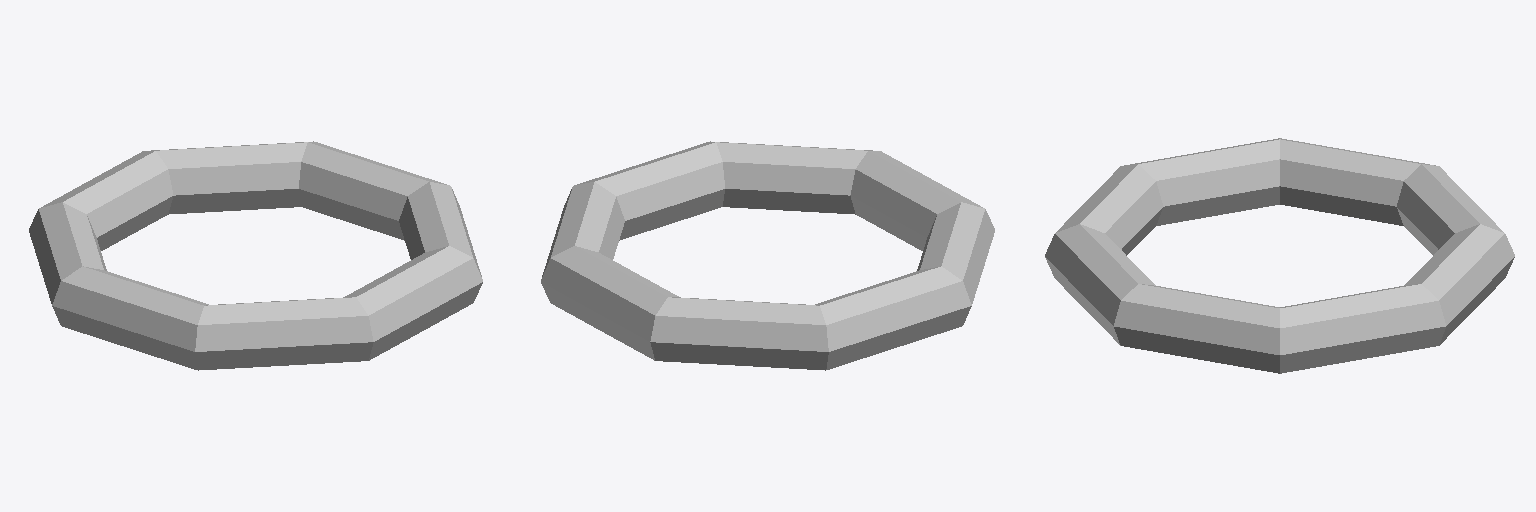
File: thing.obj
The picture shows the model from 3 angles: view 1: azimuth 30°, elevation 25°; view 2: azimuth 150°, elevation 25°; view 3: azimuth 270°, elevation 25°; orthographic projection.
Parts seen in each view (by area): view 1: ungrouped; view 2: ungrouped; view 3: ungrouped.
Boxes of the visible parts, x1=… form: ungrouped: x1=29, y1=141, x2=482, y2=370; ungrouped: x1=541, y1=141, x2=994, y2=370; ungrouped: x1=1045, y1=138, x2=1514, y2=373.
Bounding box in the file's own units: 1.99 × 0.2984 × 1.99.